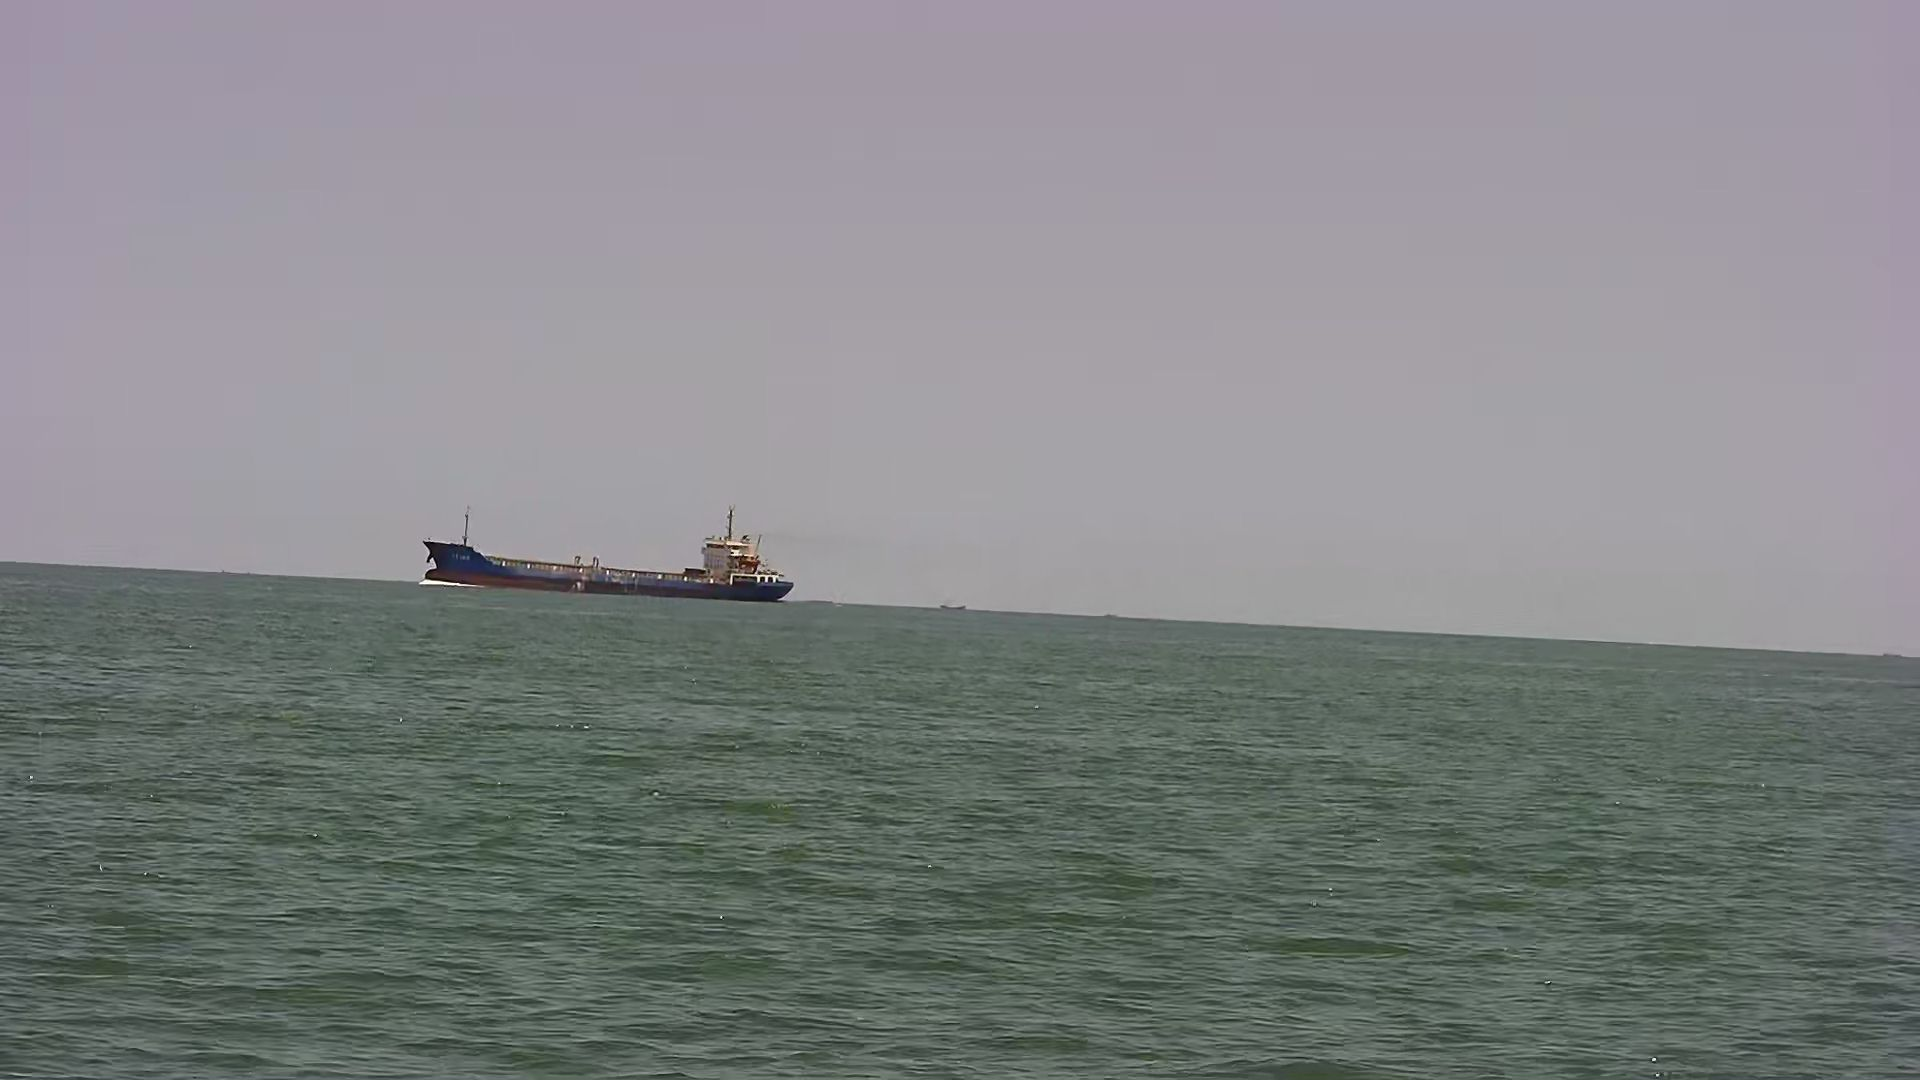ship: (421, 495, 799, 609)
